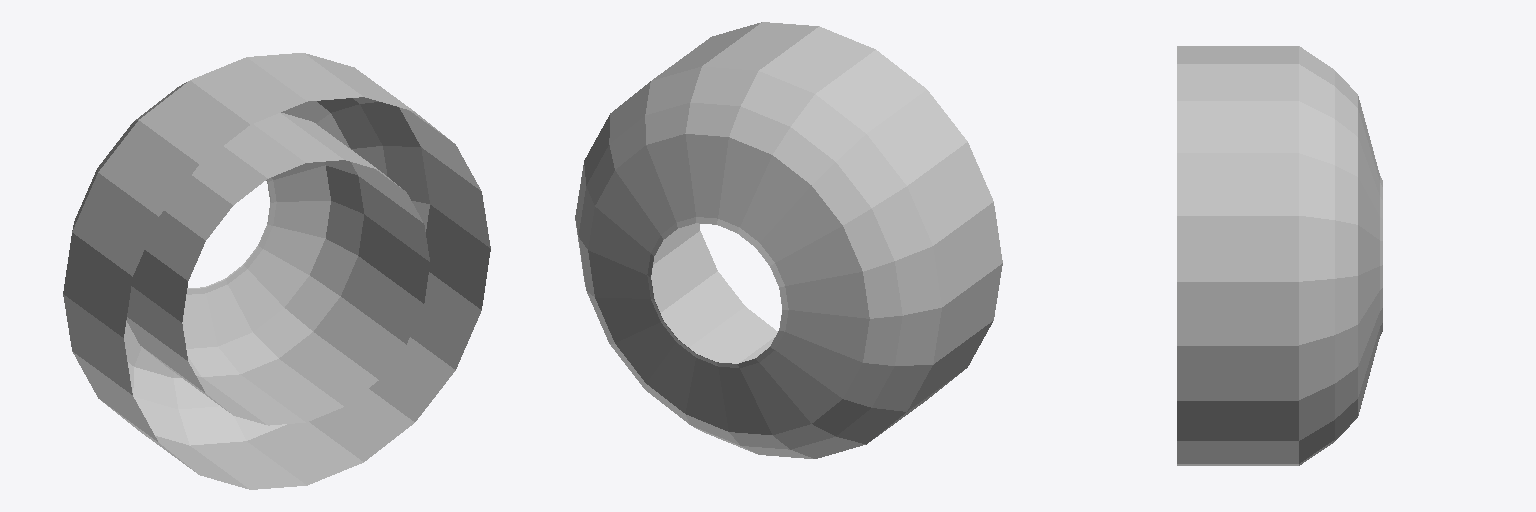
The model's file is beam1.obj.
3 renders of one model, left to right at view 1: azimuth 30°, elevation 25°; view 2: azimuth 150°, elevation 25°; view 3: azimuth 270°, elevation 25°, orthographic.
Visible parts, largest first — view 1: 円柱, 円柱.001; view 2: 円柱, 円柱.001; view 3: 円柱.
Part boxes in pixels (left/top/right/bottom): 円柱: left=63, top=53, right=490, bottom=489; 円柱.001: left=126, top=113, right=429, bottom=425; 円柱: left=575, top=22, right=1002, bottom=458; 円柱.001: left=647, top=217, right=788, bottom=367; 円柱: left=1177, top=46, right=1379, bottom=465.
Size of the model in its own units: 2.96 by 2.96 by 1.44.